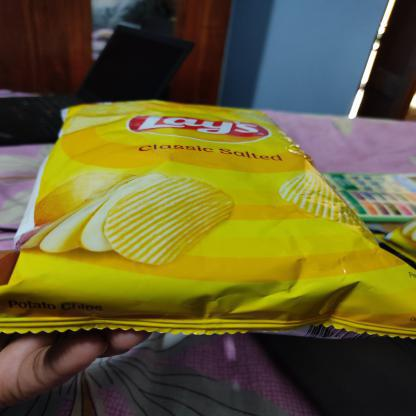classicsalted: (0, 98, 415, 342)
